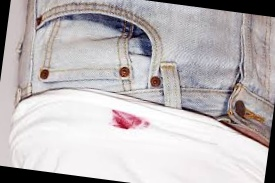lipstick: (105, 105, 150, 137)
